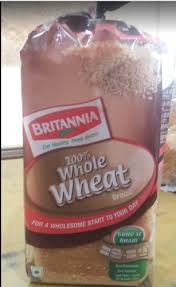bread: (21, 17, 165, 287)
